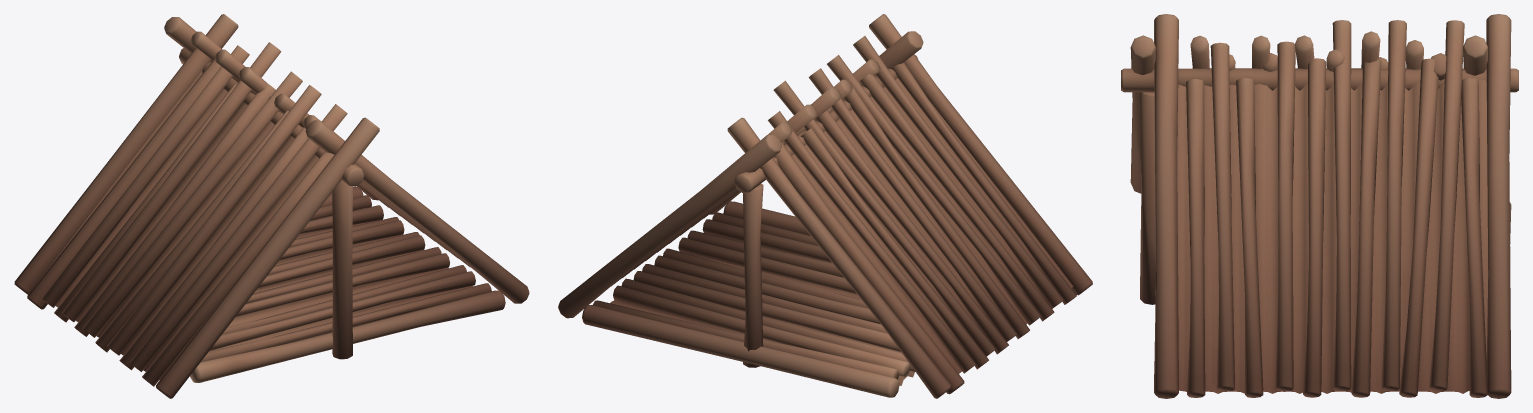
File: stickTent.fbx
3 views of the same model, side by side, from view 1: azimuth 30°, elevation 25°; view 2: azimuth 150°, elevation 25°; view 3: azimuth 270°, elevation 25° (orthographic). The views are drawn at different scales.
Visible parts, largest first — view 1: stickTent_low.001; view 2: stickTent_low.001; view 3: stickTent_low.001.
Boxes of the visible parts, box(x1,y1,x2,y2) form: stickTent_low.001: box(14, 14, 529, 398); stickTent_low.001: box(558, 14, 1092, 398); stickTent_low.001: box(1121, 14, 1518, 398).
Size of the model in its own units: 224 by 135 by 173.
1 material, 1 textured.
